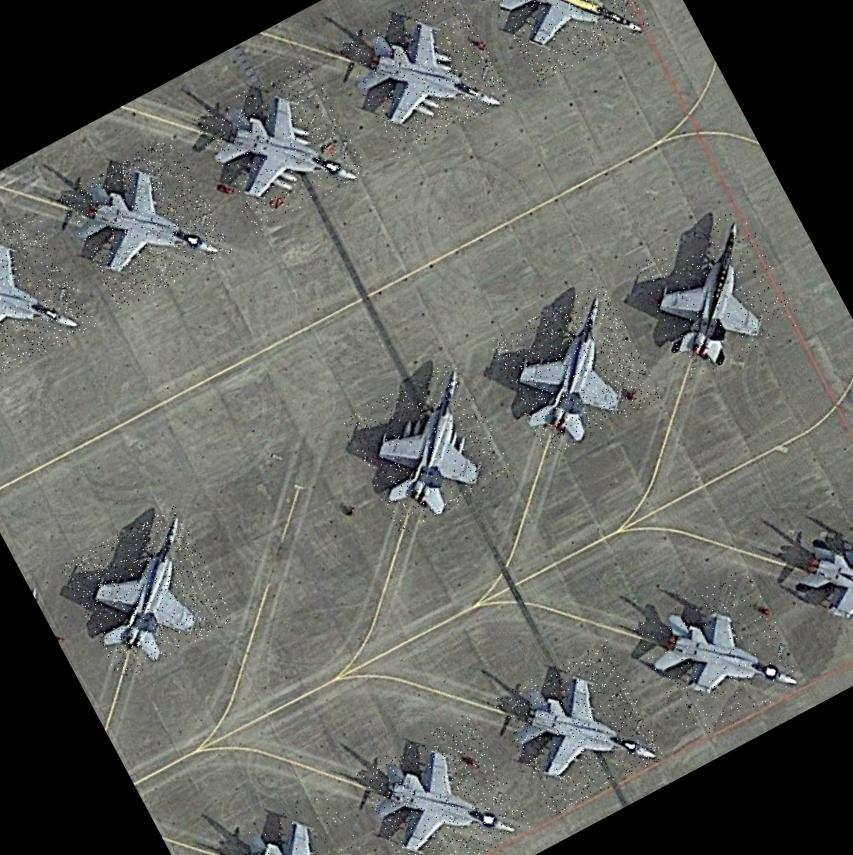A16: (190, 56, 368, 234), (55, 134, 233, 312), (626, 205, 804, 383), (484, 280, 662, 458), (338, 358, 516, 536), (58, 504, 236, 682), (630, 566, 808, 744), (490, 639, 668, 817), (334, 0, 512, 159), (352, 711, 530, 855), (0, 209, 97, 387), (476, 0, 654, 86), (776, 492, 853, 670), (213, 788, 391, 855)
